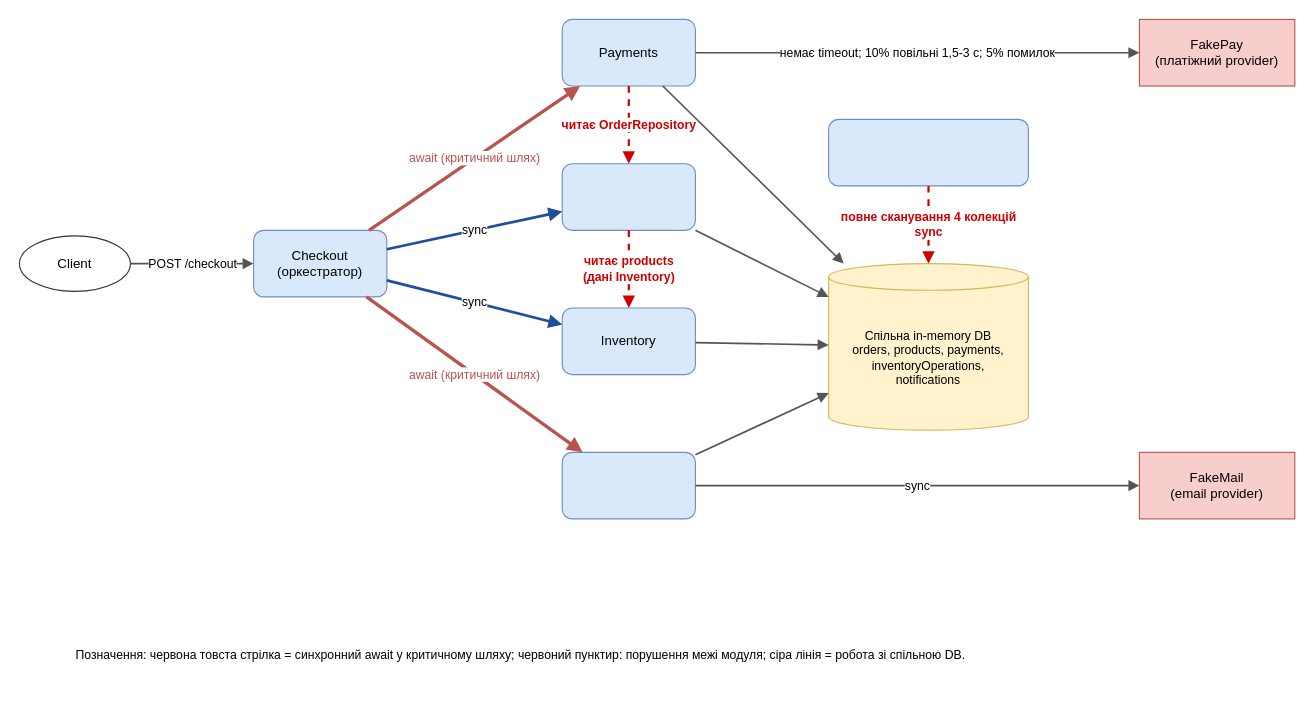
This 1314x705 diagram has some shape labels left out. Here are the shapes that lost their labels. From the top down, the box of each, then its label:
(828, 118, 1028, 186): Reporting
(561, 163, 695, 230): Orders
(561, 451, 695, 519): Notifications
